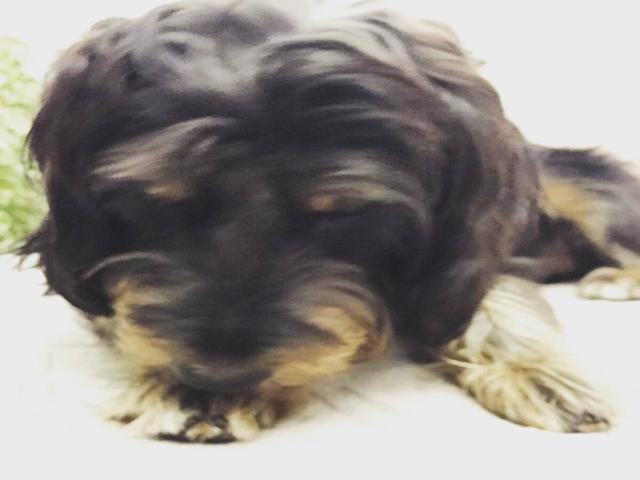Dog: (1, 0, 640, 443)
